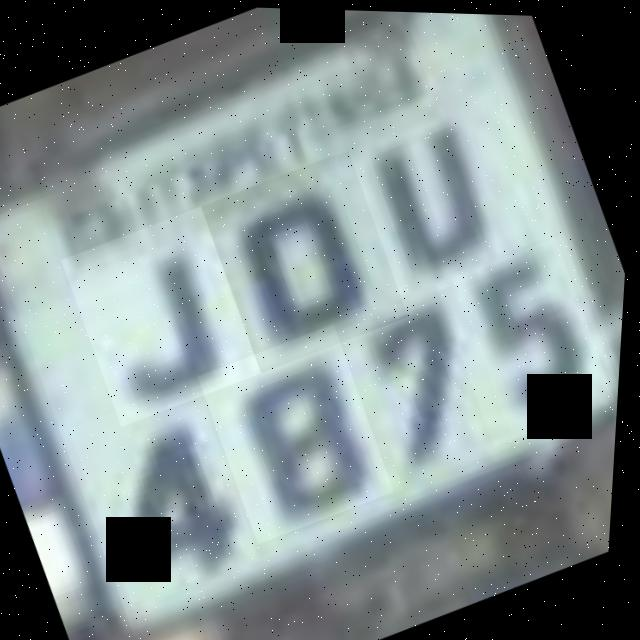4: (67, 376, 272, 604)
5: (431, 230, 627, 446)
7: (316, 277, 530, 504)
B: (195, 320, 408, 546)
J: (57, 202, 273, 430)
O: (195, 144, 420, 376)
U: (326, 83, 547, 319)
